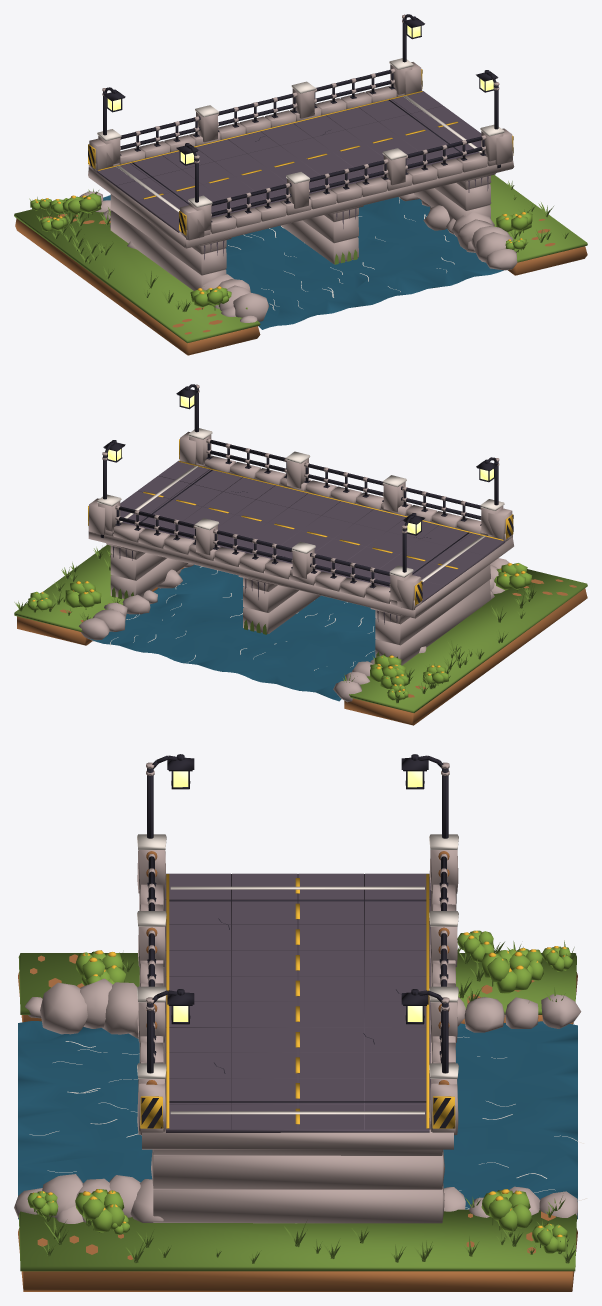
The picture shows the model from 3 angles, top to bottom: view 1: azimuth 30°, elevation 25°; view 2: azimuth 150°, elevation 25°; view 3: azimuth 270°, elevation 25°; orthographic projection. The views are drawn at different scales.
Parts seen in each view (by area): view 1: body, object 2; view 2: body, object 2; view 3: body, object 2.
Part boxes in pixels (bbox=[...]): body: bbox=[14, 14, 587, 355]; object 2: bbox=[103, 16, 498, 165]; body: bbox=[14, 384, 587, 725]; object 2: bbox=[103, 386, 498, 535]; body: bbox=[14, 755, 587, 1291]; object 2: bbox=[167, 754, 428, 1024].
Size of the model in its own units: 16.09 by 6.23 by 12.3.
